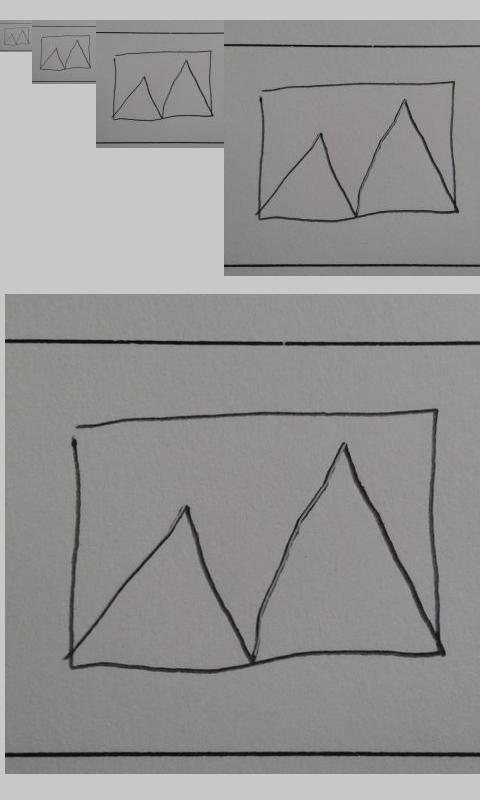image_view: (63, 406, 448, 674), (256, 81, 457, 223), (112, 50, 213, 122), (39, 34, 92, 71), (3, 26, 30, 46)
